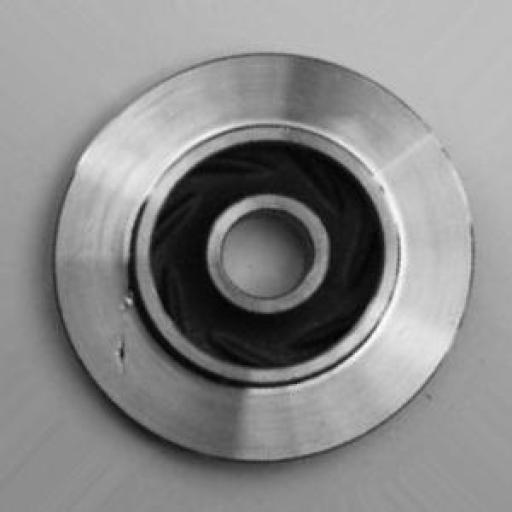defect: (97, 239, 160, 429)
